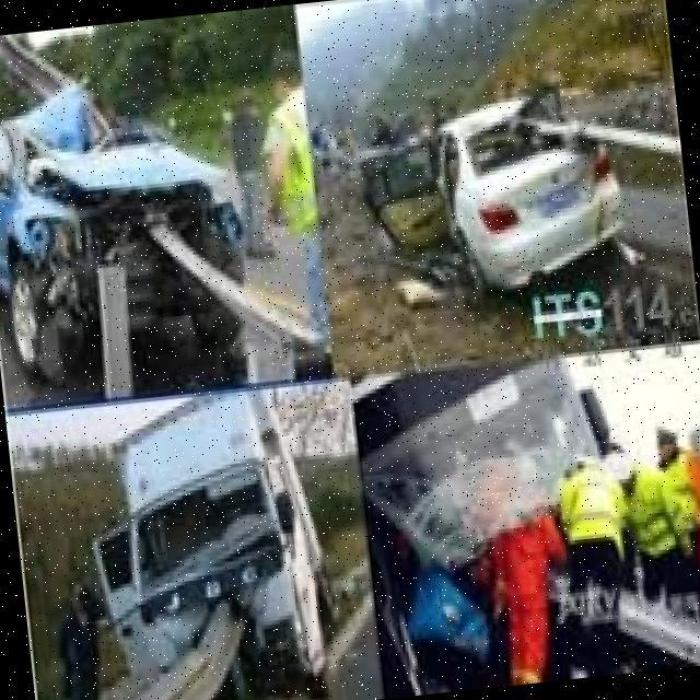Accident: (0, 9, 282, 383), (352, 359, 642, 668), (346, 65, 648, 317), (68, 446, 341, 700)
